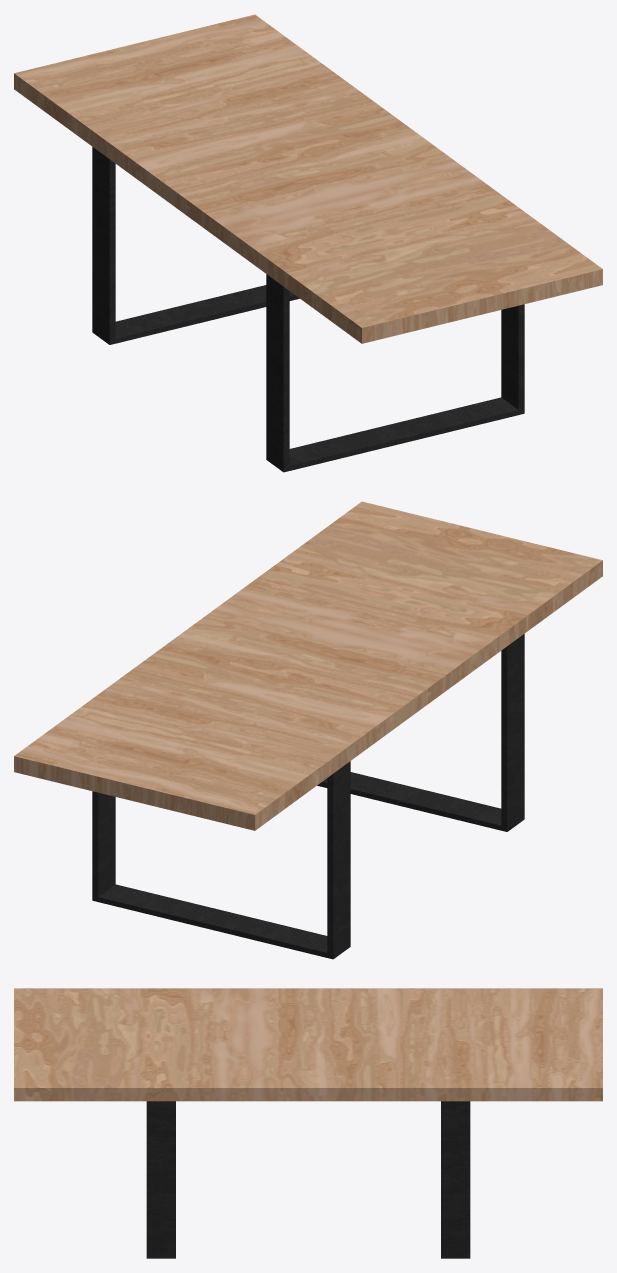
Rendered from TableCowork.fbx.
3 renders of one model, top to bottom at view 1: azimuth 30°, elevation 25°; view 2: azimuth 150°, elevation 25°; view 3: azimuth 270°, elevation 25°, orthographic. The views are drawn at different scales.
Parts seen in each view (by area): view 1: TableCowork; view 2: TableCowork; view 3: TableCowork.
Part boxes in pixels (box(x1,y1,x2,y2)): TableCowork: box(14, 14, 602, 472); TableCowork: box(14, 501, 602, 959); TableCowork: box(14, 988, 602, 1258).
Size of the model in its own units: 1 by 0.8 by 2.5.
Materials: 2 (2 with a texture image).
